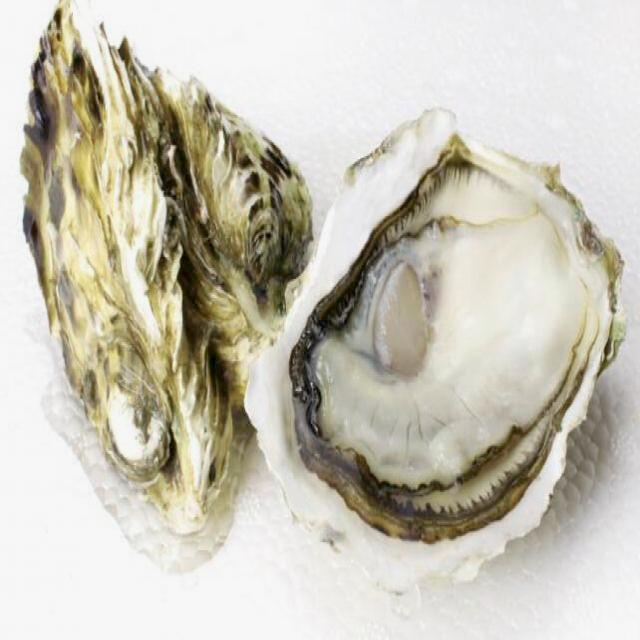Oyster-Closed: (20, 1, 244, 534), (168, 79, 314, 412)
Oyster-Open: (244, 104, 632, 592)
